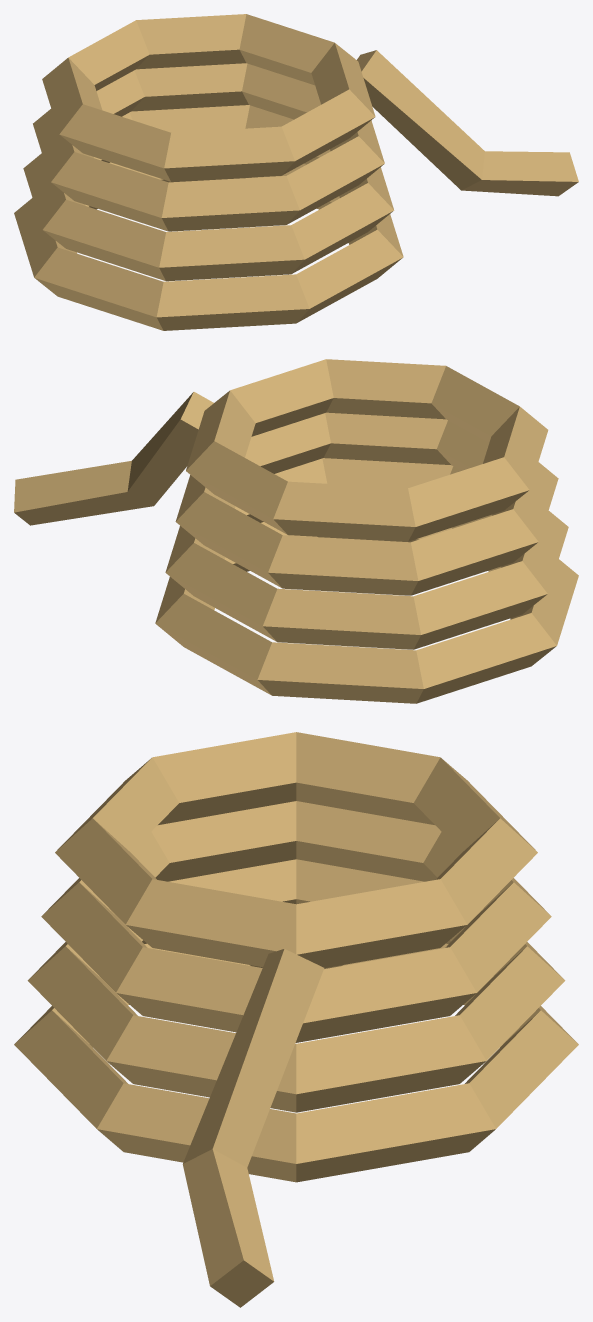
Rendered from RopeCoil.fbx.
The picture shows the model from 3 angles, top to bottom: view 1: azimuth 30°, elevation 25°; view 2: azimuth 150°, elevation 25°; view 3: azimuth 270°, elevation 25°; orthographic projection. The views are drawn at different scales.
Visible parts, largest first — view 1: RopeCoil; view 2: RopeCoil; view 3: RopeCoil.
Boxes of the visible parts, <box> form: RopeCoil: <box>14,14,578,330</box>; RopeCoil: <box>14,359,578,703</box>; RopeCoil: <box>14,732,578,1307</box>.
Bounding box in the file's own units: 3.08 × 1.07 × 2.08.
1 material, 1 textured.
